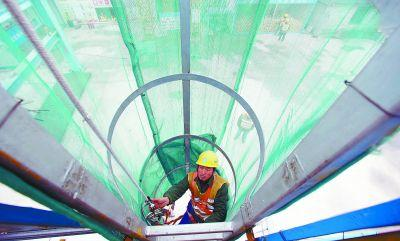gloves: (150, 196, 170, 210)
hard-hat: (194, 149, 219, 168)
person: (147, 148, 229, 225)
vest: (185, 170, 229, 223)
